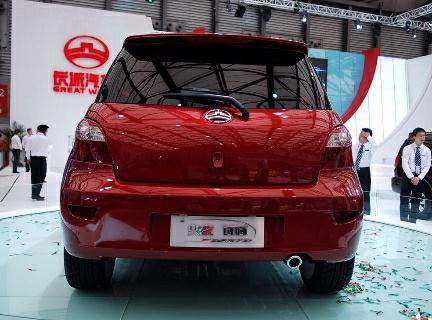长城-V80: (56, 28, 371, 300)
